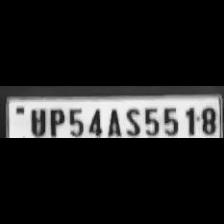1: (180, 105, 198, 137)
4: (84, 105, 104, 136)
5: (160, 105, 180, 137), (65, 106, 84, 138), (141, 105, 159, 137)
8: (197, 104, 217, 136)
A: (103, 106, 121, 138)
P: (46, 106, 64, 138)
S: (122, 105, 142, 137)
U: (26, 107, 48, 137)
